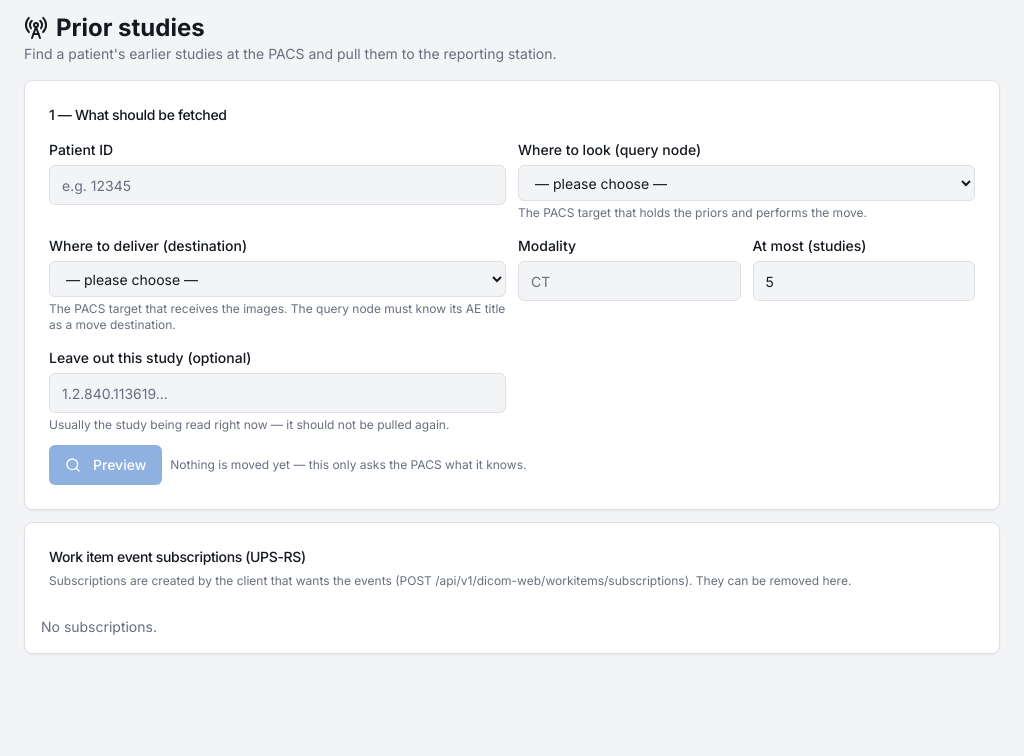
it: PrefetchPage › reports a partly delivered prefetch instead of claiming success
The width and height of the screenshot is (1024, 756).
Type "P-100" into the field labelled "Patient ID". click: {"x": 278, "y": 185}
box: x1=49 y1=165 x2=506 y2=205
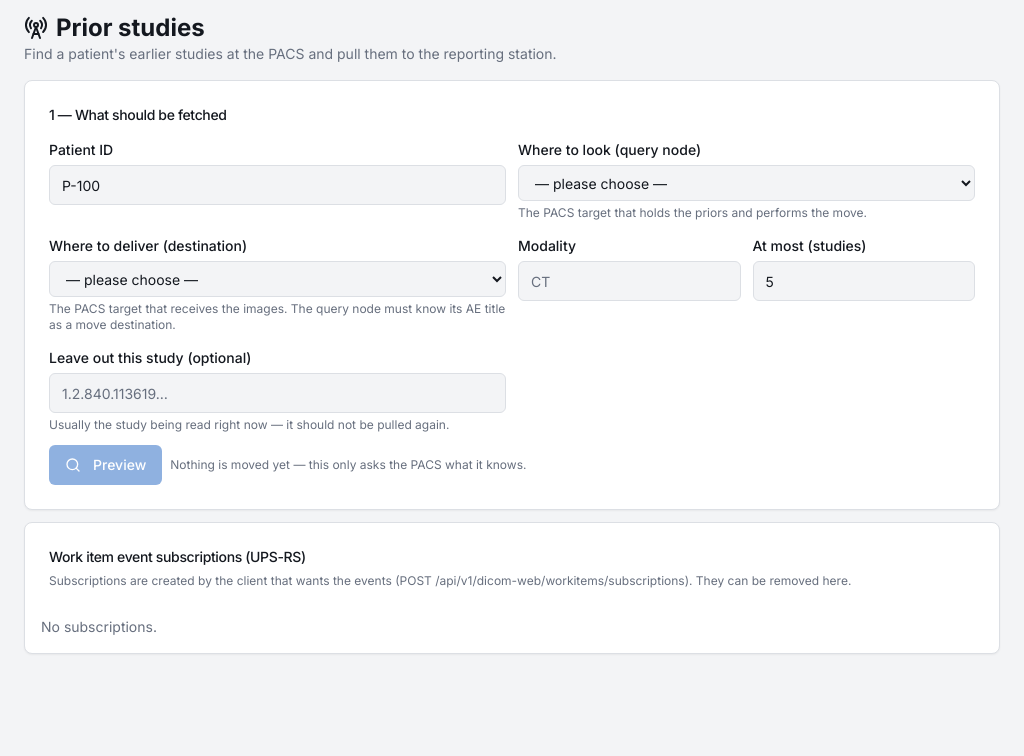
Select "pacs-main" in the dropdown labelled "Where to look (query node)". click: {"x": 746, "y": 183}
box: x1=518 y1=165 x2=975 y2=201
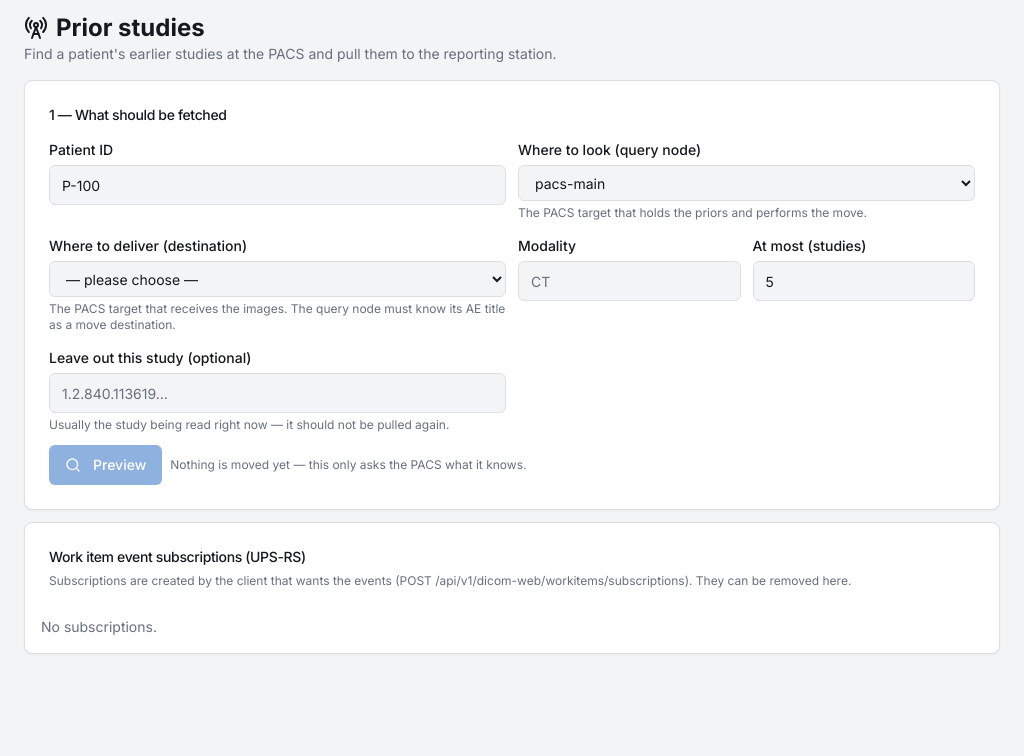
Select "dest" in the dropdown labelled "Where to deliver (destination)". click: {"x": 278, "y": 279}
box: x1=49 y1=261 x2=506 y2=297
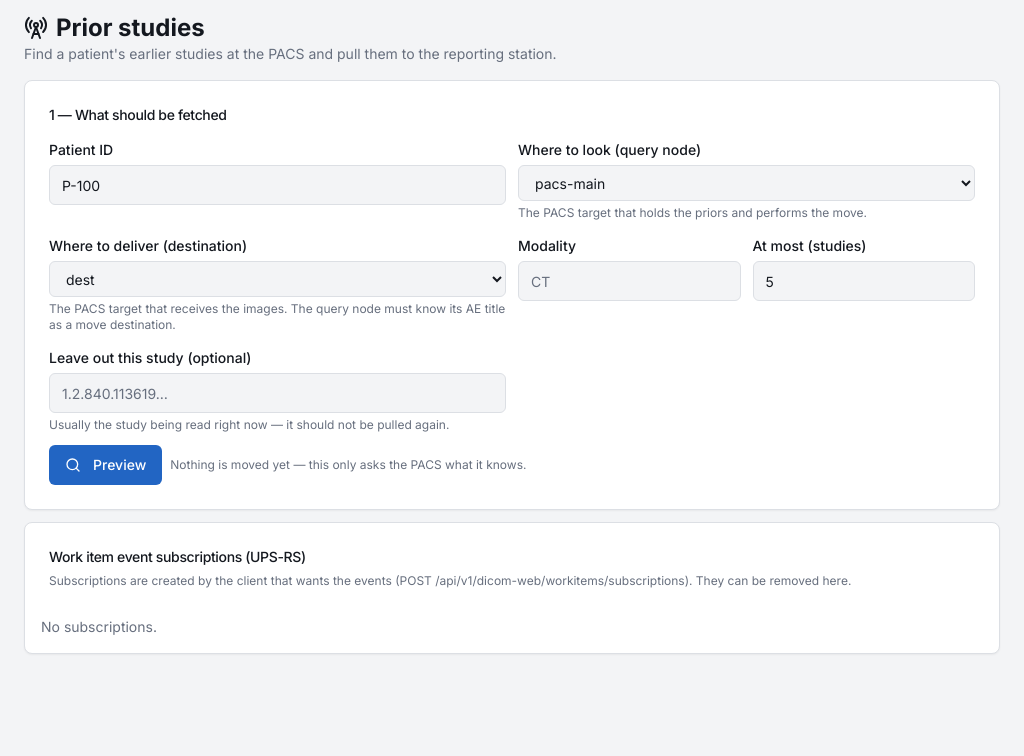
Click the button "Preview". click: {"x": 106, "y": 465}
box: x1=49 y1=445 x2=162 y2=485
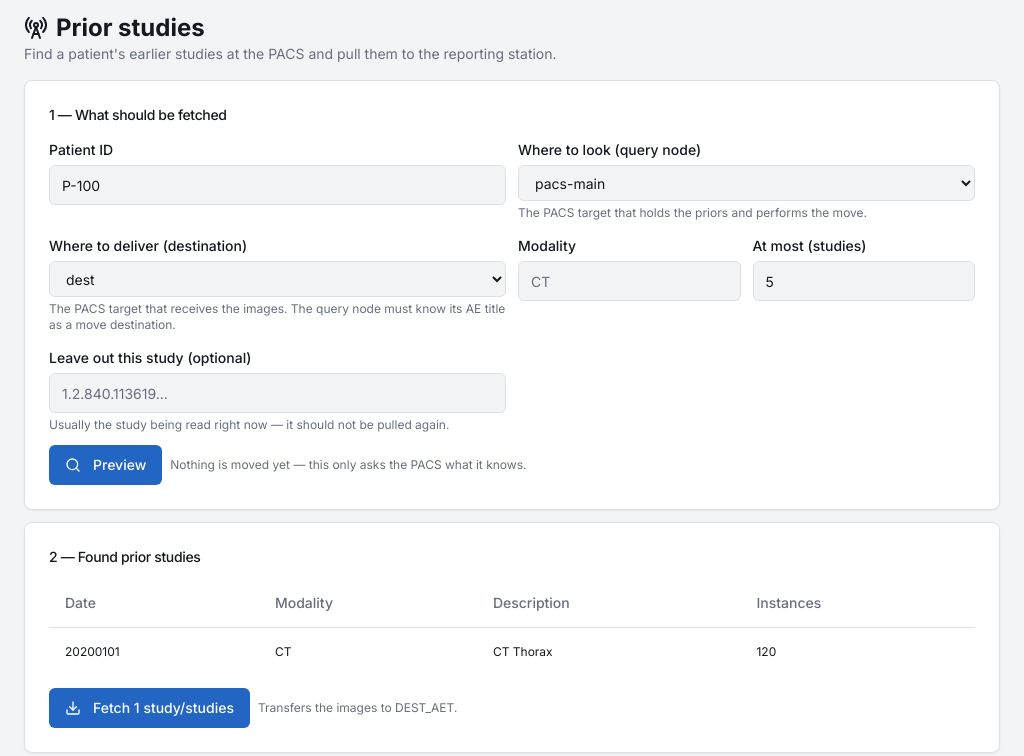
Result: the text "CT Thorax" is shown at x1=477 y1=627 x2=740 y2=676
Click the button "Fetch 1 study/studies". click: {"x": 150, "y": 708}
box: x1=49 y1=688 x2=250 y2=728
(page scrolled)
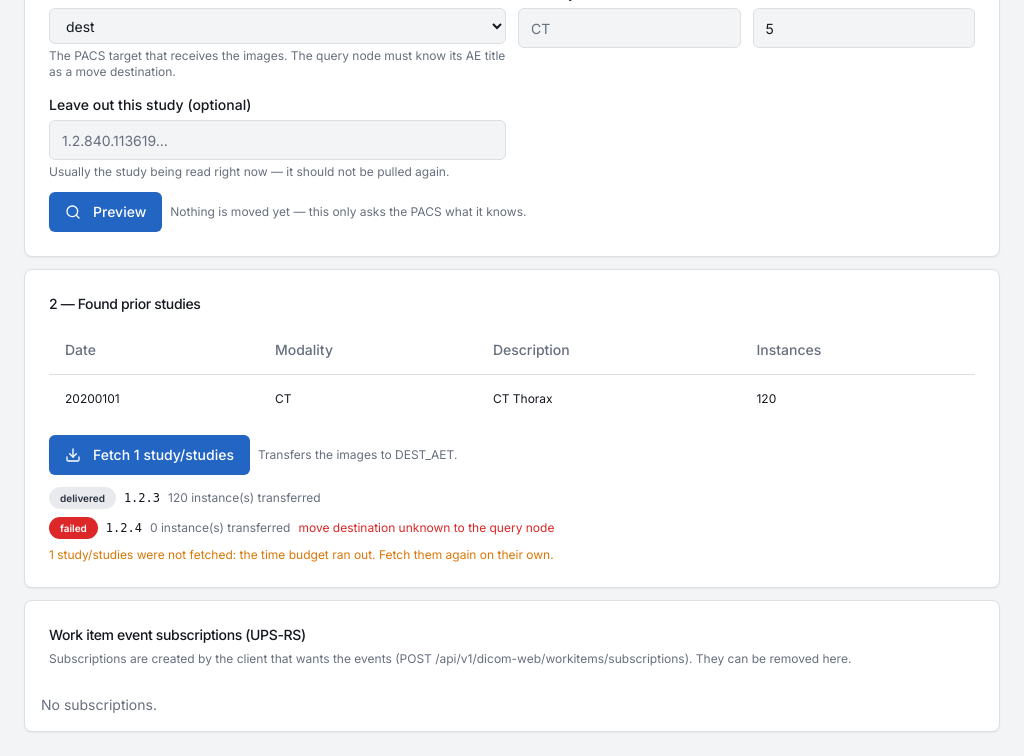
Result: the text "move destination unknown to the query node" is shown at x1=298 y1=520 x2=554 y2=536
Result: the text "1 study/studies were not fetched" is shown at x1=49 y1=546 x2=554 y2=562
